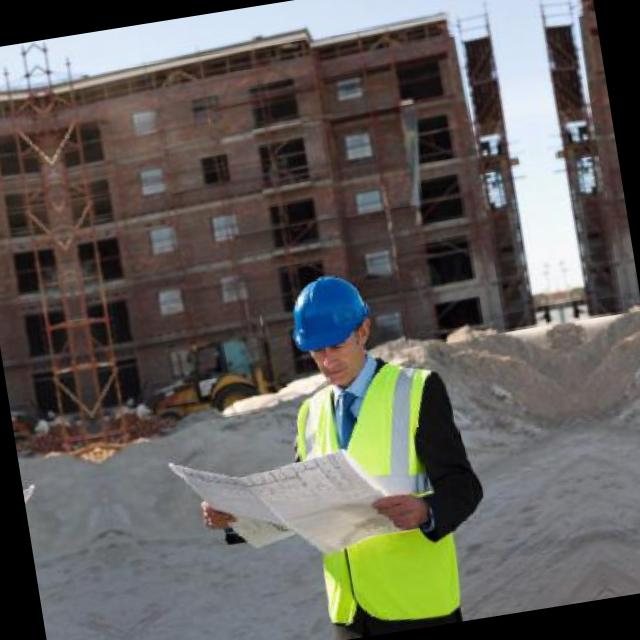helmet: (275, 255, 385, 394)
